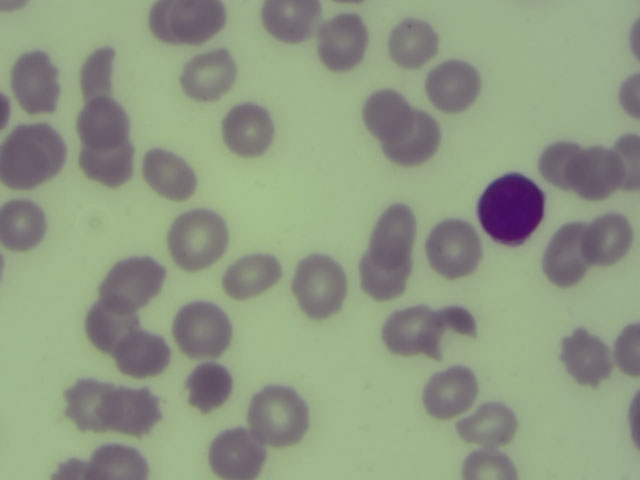RBC: (172, 299, 231, 361), (290, 254, 346, 319), (8, 123, 63, 188), (10, 49, 61, 115), (168, 211, 227, 268), (104, 253, 155, 313), (208, 426, 262, 480), (426, 222, 480, 275), (357, 247, 411, 300), (367, 203, 421, 256), (561, 332, 615, 385), (541, 227, 595, 280), (580, 214, 634, 267), (534, 137, 588, 190), (567, 146, 621, 199), (461, 397, 515, 450), (424, 365, 478, 418), (425, 304, 479, 357), (384, 302, 438, 355), (252, 388, 306, 441), (104, 384, 158, 437), (60, 378, 114, 431), (181, 359, 235, 412), (115, 329, 169, 382), (84, 300, 138, 353), (225, 248, 279, 301), (387, 111, 441, 164), (362, 87, 416, 140), (144, 149, 198, 202), (78, 136, 132, 189), (75, 97, 129, 150), (74, 46, 128, 99), (221, 104, 275, 157), (183, 49, 237, 102), (426, 58, 480, 111), (386, 19, 440, 72), (316, 17, 370, 70), (84, 439, 151, 480), (260, 1, 322, 45), (1, 197, 46, 252), (172, 1, 226, 45), (608, 134, 640, 197), (463, 445, 516, 480), (611, 319, 640, 379), (148, 1, 178, 44)
WBC: (476, 172, 547, 248)
